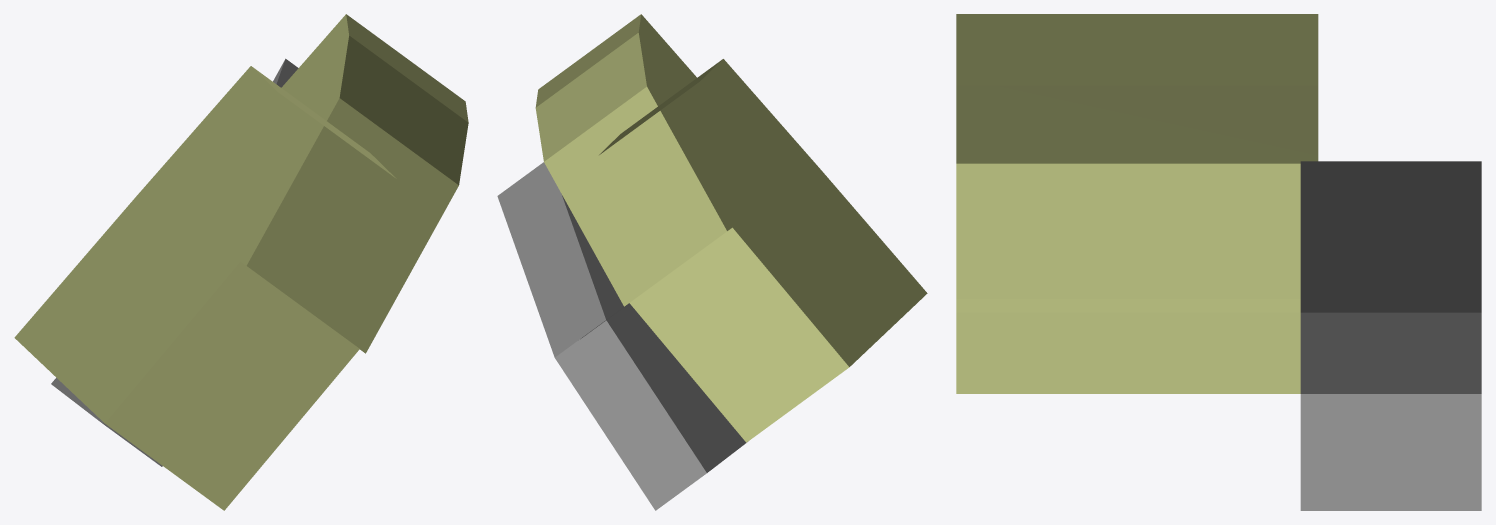
The picture shows the model from 3 angles, left to right: view 1: azimuth 30°, elevation 25°; view 2: azimuth 150°, elevation 25°; view 3: azimuth 270°, elevation 25°; orthographic projection. The views are drawn at different scales.
Visible parts, largest first — view 1: 0_1_2_0_0_2_1_2_2_2; view 2: 0_1_2_0_0_2_1_2_2_2; view 3: 0_1_2_0_0_2_1_2_2_2.
Boxes of the visible parts, x1,y1,x2,y2 form: 0_1_2_0_0_2_1_2_2_2: (14, 14, 468, 510); 0_1_2_0_0_2_1_2_2_2: (497, 14, 927, 510); 0_1_2_0_0_2_1_2_2_2: (956, 14, 1481, 510).
Size of the model in its own units: 9.71 by 11.16 by 8.71.
